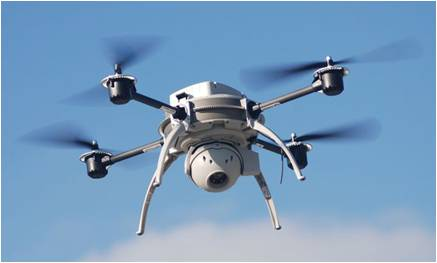drone_rotary_wing: (239, 41, 419, 98), (56, 34, 164, 107), (18, 121, 134, 182), (264, 119, 383, 176)
